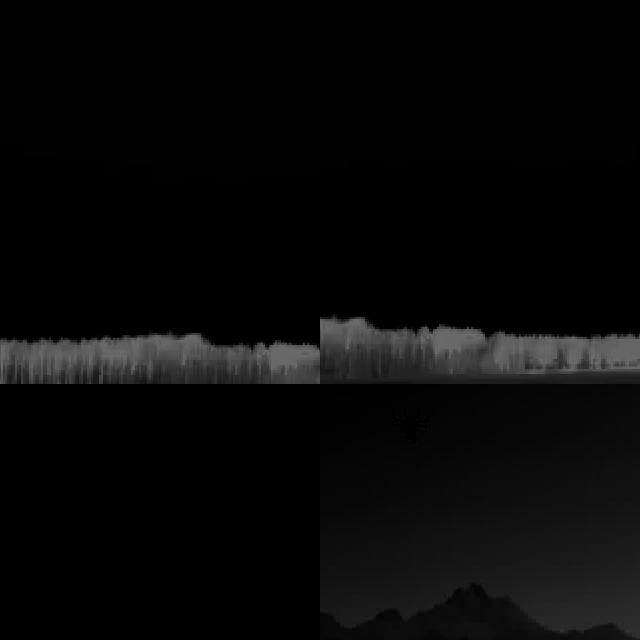0: (543, 0, 571, 16)
drone: (390, 400, 431, 450)
